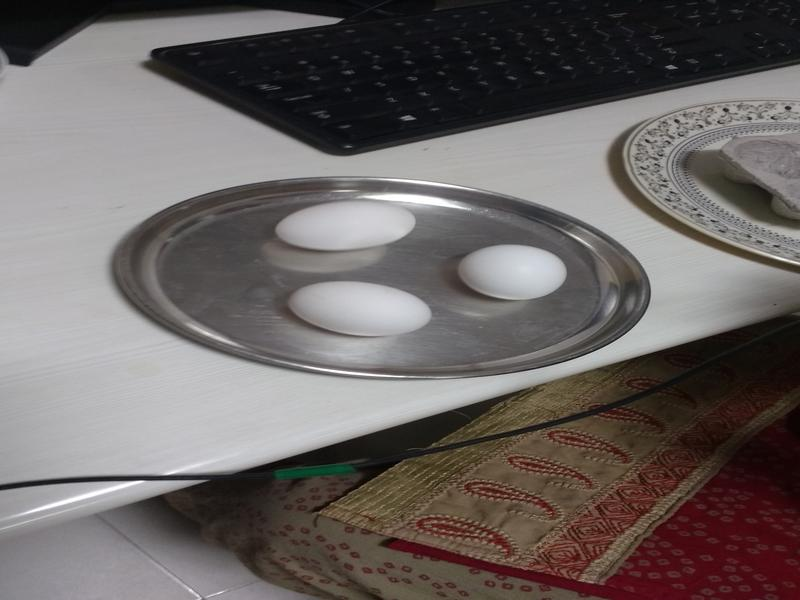egg: (287, 277, 438, 343)
